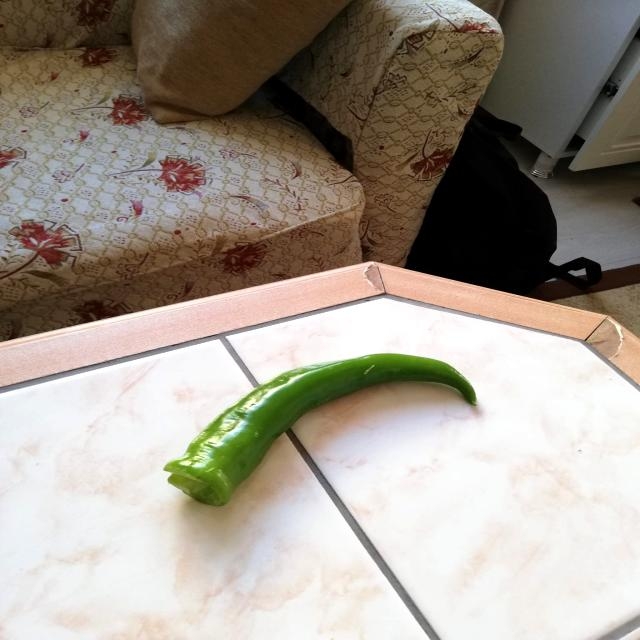green pepper: (160, 347, 482, 509)
